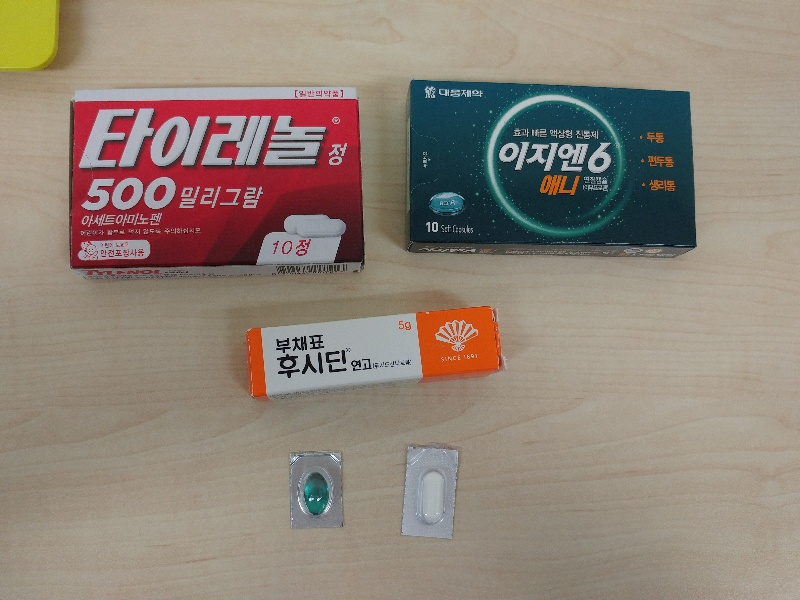ezn: (404, 80, 695, 259)
fucidin: (246, 308, 504, 397)
pill_ezn: (289, 452, 344, 528)
pill_tylenol: (401, 446, 458, 538)
tylenol: (68, 86, 366, 275)
